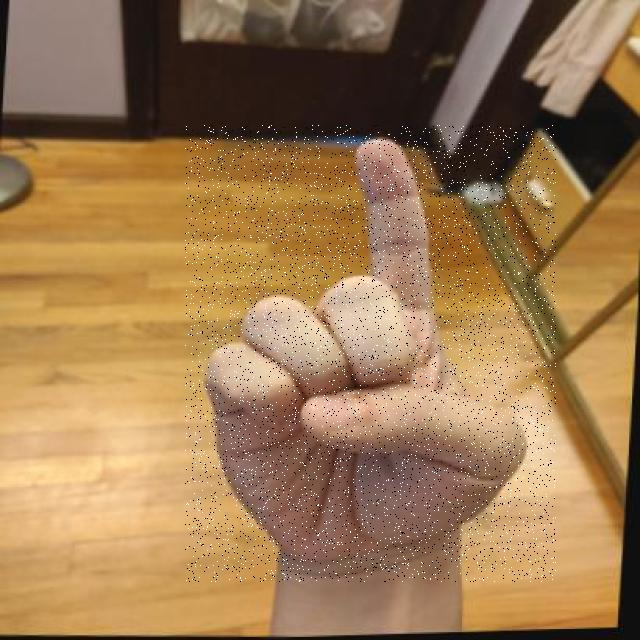D: (185, 125, 556, 582)
